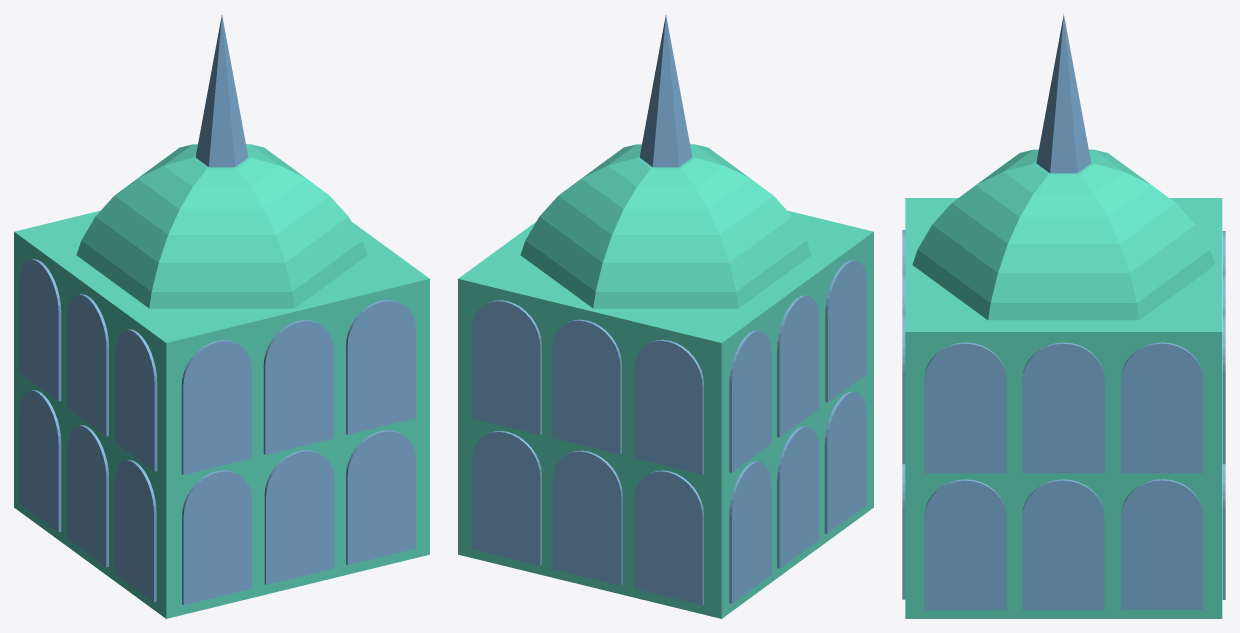
The model's file is officeroof.glb.
3 views of the same model, side by side, from view 1: azimuth 30°, elevation 25°; view 2: azimuth 150°, elevation 25°; view 3: azimuth 270°, elevation 25° (orthographic). The views are drawn at different scales.
Visible parts, largest first — view 1: Cube, Sphere, Cube.015, Cube.017, Cube.014, Cube.016, Cube.013, Cube.018, Cube.024, Cube.022, Cube.021, Cube.019 (+3 smaller); view 2: Cube, Sphere, Cube.011, Cube.007, Cube.010, Cube.008, Cube.012, Cube.009, Cube.020, Cube.022, Cube.021, Cube.023 (+3 smaller); view 3: Cube, Sphere, Cube.003, Cube.005, Cube.004, Cube.001, Cube.002, Cube.006, Cone, Cube.007, Cube.013, Cube.012 (+1 smaller).
Boxes of the visible parts, <box> form: Cube: <box>14,210,429,618</box>; Sphere: <box>76,144,367,308</box>; Cube.015: <box>181,340,251,474</box>; Cube.017: <box>264,450,334,584</box>; Cube.014: <box>263,320,333,454</box>; Cube.016: <box>346,430,415,565</box>; Cube.013: <box>346,300,415,434</box>; Cube.018: <box>182,470,251,605</box>; Cube.024: <box>114,459,156,602</box>; Cube.022: <box>19,390,61,532</box>; Cube.021: <box>19,259,61,401</box>; Cube.019: <box>115,329,157,471</box>; Cube: <box>458,210,873,618</box>; Sphere: <box>520,144,811,308</box>; Cube.011: <box>552,450,622,585</box>; Cube.007: <box>471,300,541,434</box>; Cube.010: <box>634,470,703,605</box>; Cube.008: <box>552,319,621,454</box>; Cube.012: <box>472,430,541,565</box>; Cube.009: <box>634,339,703,474</box>; Cube.020: <box>777,295,819,437</box>; Cube.022: <box>729,461,771,603</box>; Cube.021: <box>729,330,771,472</box>; Cube.023: <box>777,426,819,568</box>; Cube: <box>905,198,1222,618</box>; Sphere: <box>912,149,1214,320</box>; Cube.003: <box>924,479,1006,610</box>; Cube.005: <box>1022,479,1104,610</box>; Cube.004: <box>924,342,1006,473</box>; Cube.001: <box>1022,342,1104,473</box>; Cube.002: <box>1121,342,1203,473</box>; Cube.006: <box>1121,479,1203,609</box>; Cone: <box>1036,14,1091,173</box>; Cube.007: <box>1222,313,1225,464</box>; Cube.013: <box>902,313,905,464</box>; Cube.012: <box>1222,464,1225,599</box>.
Bounding box in the file's own units: 2.04 × 3.75 × 2.04.
